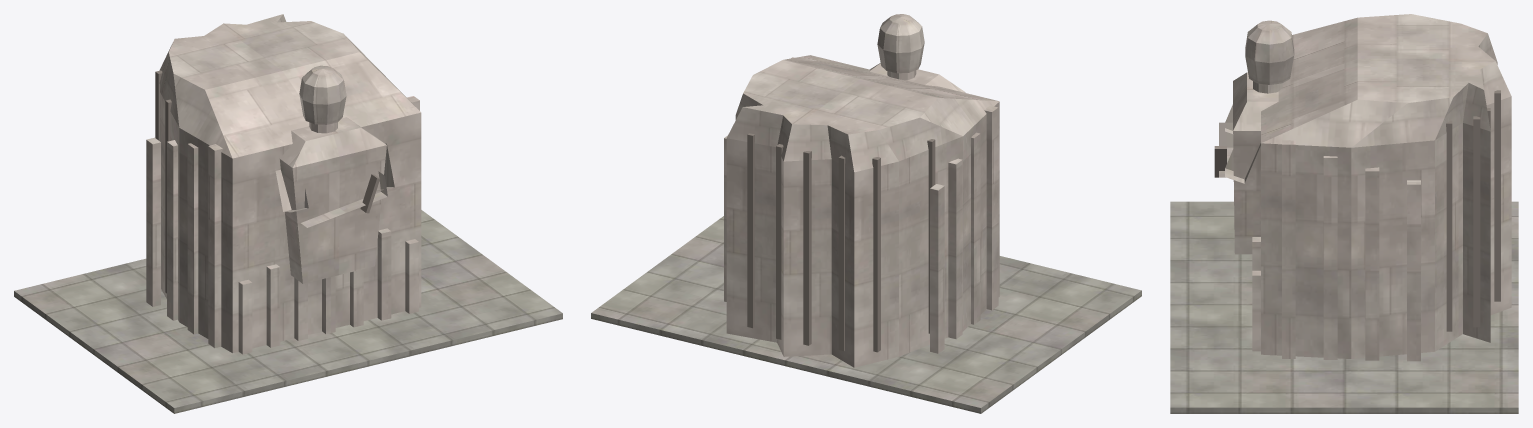
File: mlk_memorial.glb
3 renders of one model, left to right at view 1: azimuth 30°, elevation 25°; view 2: azimuth 150°, elevation 25°; view 3: azimuth 270°, elevation 25°, orthographic. The views are drawn at different scales.
Parts seen in each view (by area): view 1: mlk_memorial; view 2: mlk_memorial; view 3: mlk_memorial.
Boxes of the visible parts, left/top/right/bottom form: mlk_memorial: left=14, top=14, right=562, bottom=413; mlk_memorial: left=591, top=14, right=1141, bottom=413; mlk_memorial: left=1170, top=14, right=1518, bottom=413.
Bounding box in the file's own units: 14 × 9.1 × 10.
Materials: 3 (3 with a texture image).
